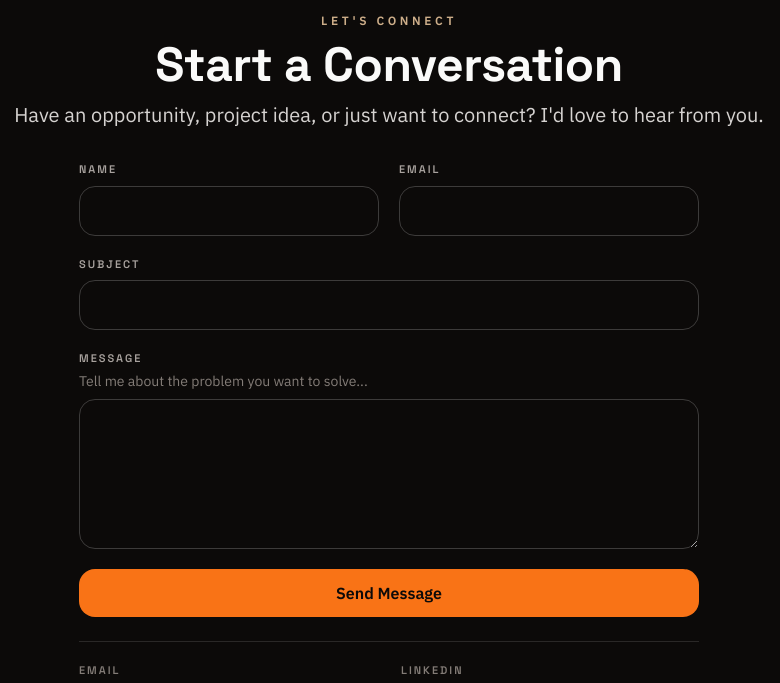
Test: ConnectSection › surfaces a failure and offers the mailto fallback
Type "Ada" into the field labelled "Name" at point(229, 210), box left=79, top=186, right=379, bottom=236
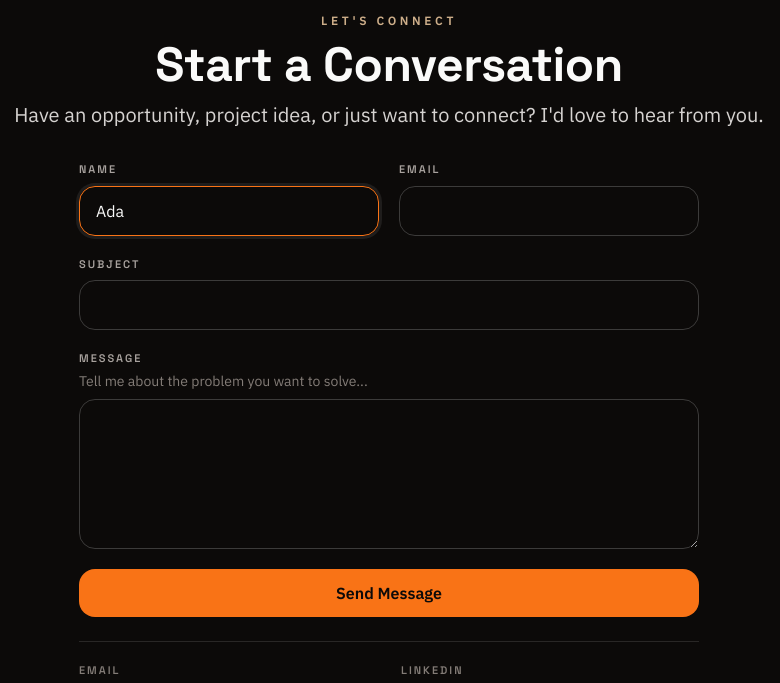
Type "ada@example.com" into the field labelled "Email" at point(549, 210), box left=399, top=186, right=699, bottom=236
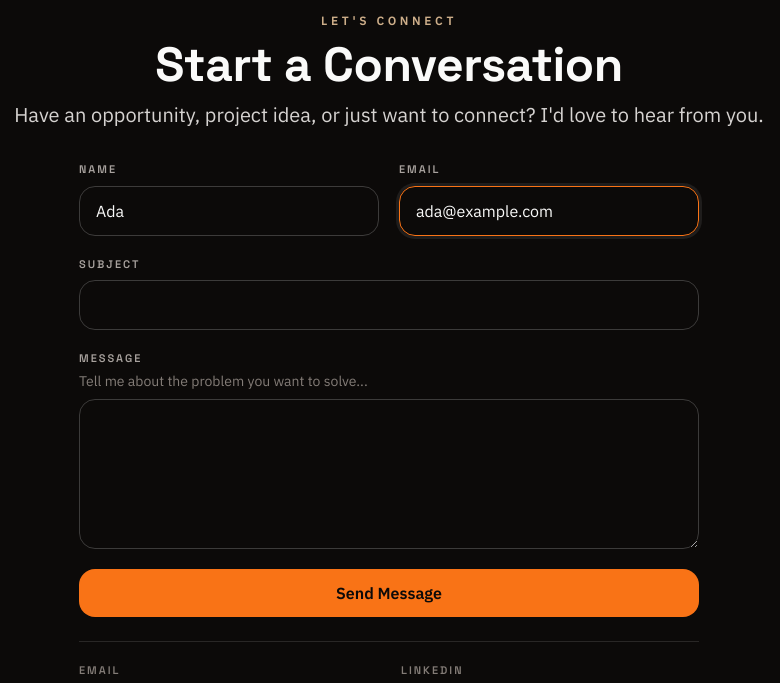
Type "Hi there" into the text box labelled "Message" at point(389, 474), box left=79, top=398, right=699, bottom=548
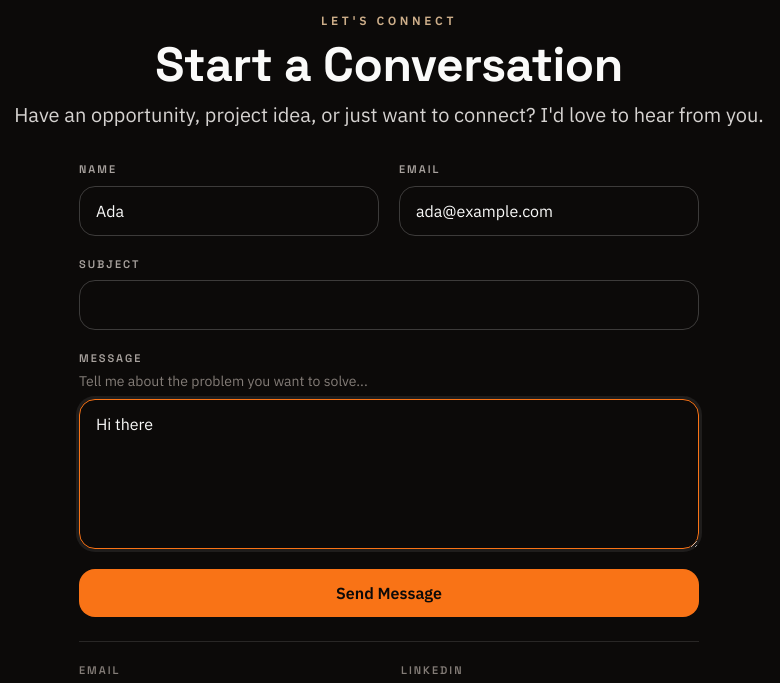
Click the button "Send Message" at point(389, 592), box left=79, top=568, right=699, bottom=616
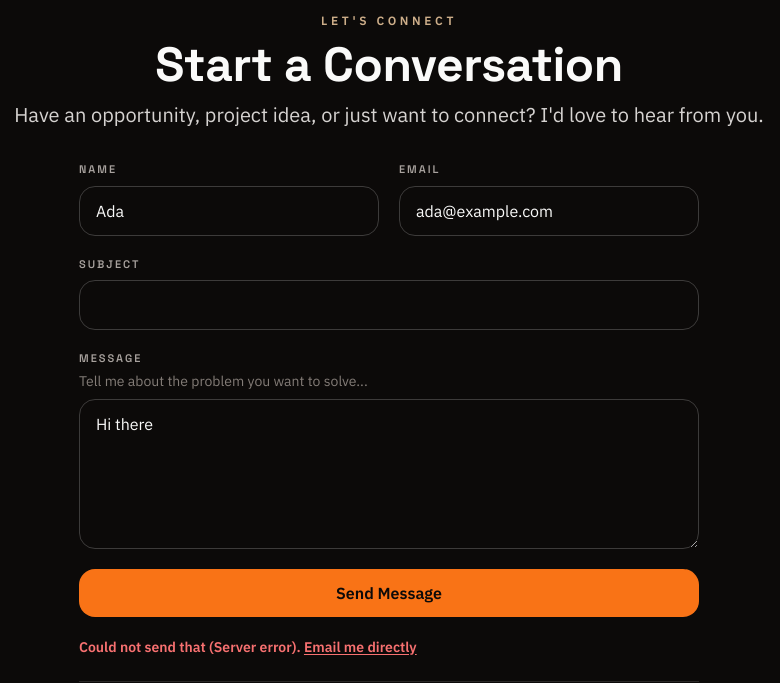
Result: the message shows "Could not send" at left=79, top=638, right=206, bottom=656
